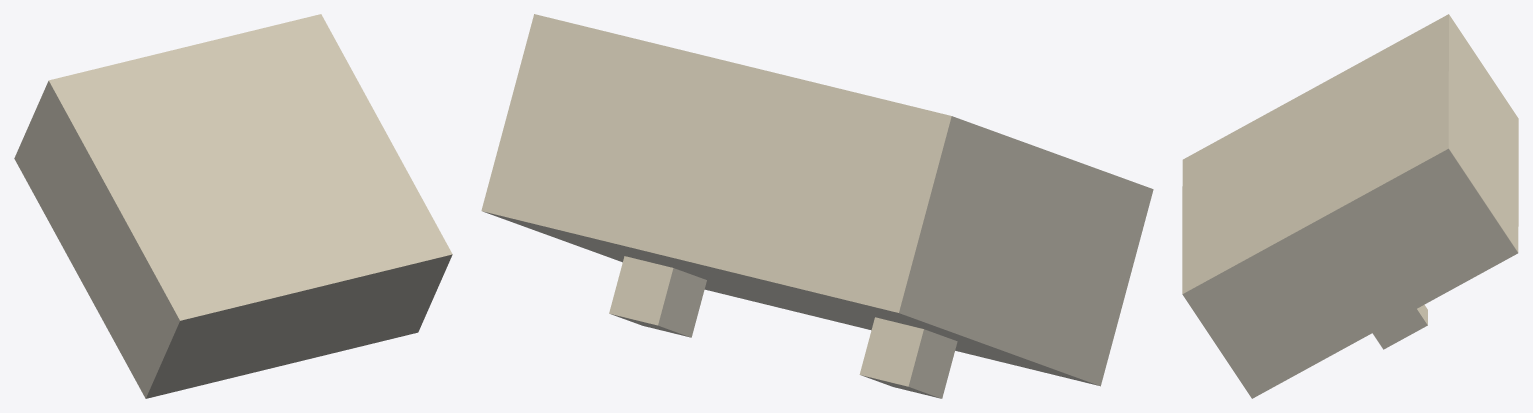
Rendered from BRAT_M3_FRONT_1_3.glb.
3 renders of one model, left to right at view 1: azimuth 30°, elevation 25°; view 2: azimuth 150°, elevation 25°; view 3: azimuth 270°, elevation 25°, orthographic. The views are drawn at different scales.
Visible parts, largest first — view 1: BRAT_M3_FRONT_1_3.001; view 2: BRAT_M3_FRONT_1_3.001; view 3: BRAT_M3_FRONT_1_3.001.
Part boxes in pixels (x1,y1,x2,y2): BRAT_M3_FRONT_1_3.001: (14,14,452,398); BRAT_M3_FRONT_1_3.001: (481,14,1153,398); BRAT_M3_FRONT_1_3.001: (1182,14,1518,398).
Bounding box in the file's own units: 0.3072 × 0.2664 × 0.3242.
